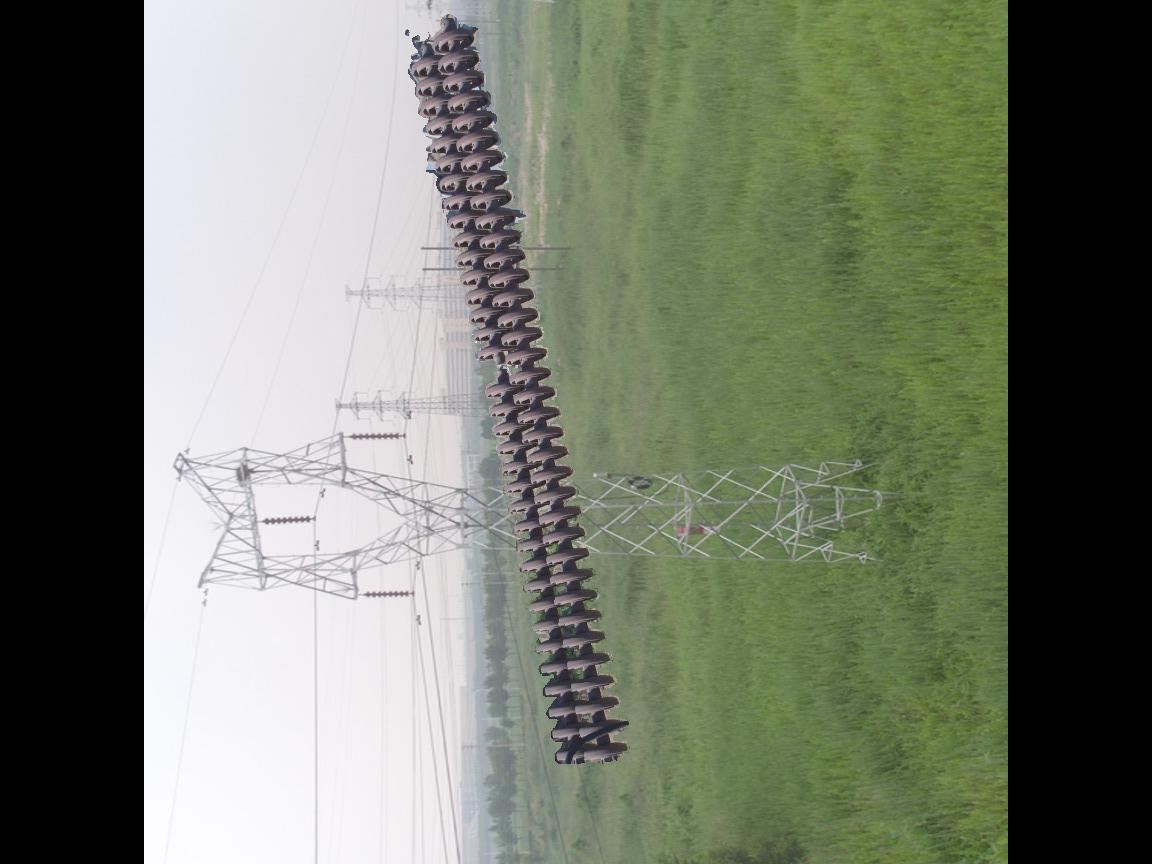insulator: (403, 18, 634, 769), (345, 427, 406, 445), (259, 511, 315, 530), (361, 585, 412, 603)
insulator_stringdrop: (471, 341, 525, 403)
